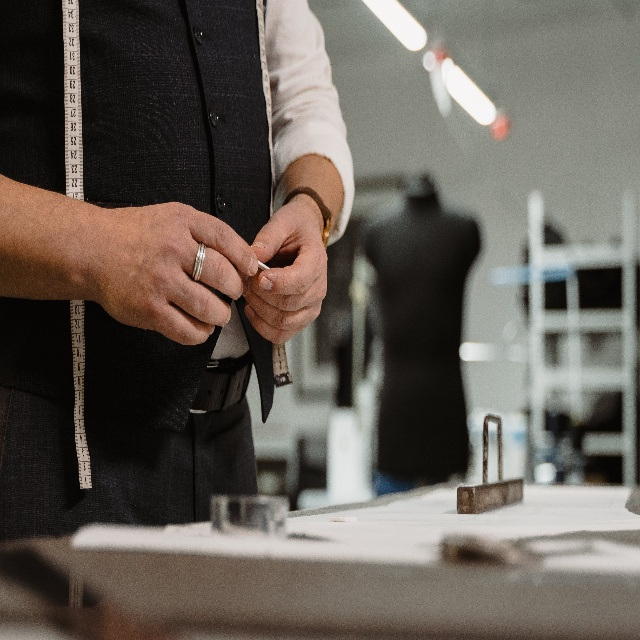Sin_guantes: (103, 197, 260, 351), (238, 200, 328, 346)
